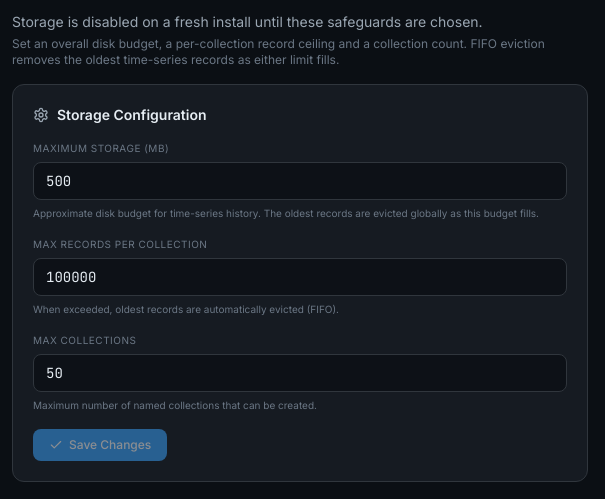
Test case: SettingsPanel › keeps Save disabled until a value changes
This screenshot has width=605, height=499.
Expected: the button "Save Changes" is disabled, [33, 429, 167, 461]
Replace the text in the number field showing "500" below "Maximum Storage (MB)" with "800". click: (300, 181)
box: [33, 162, 567, 200]
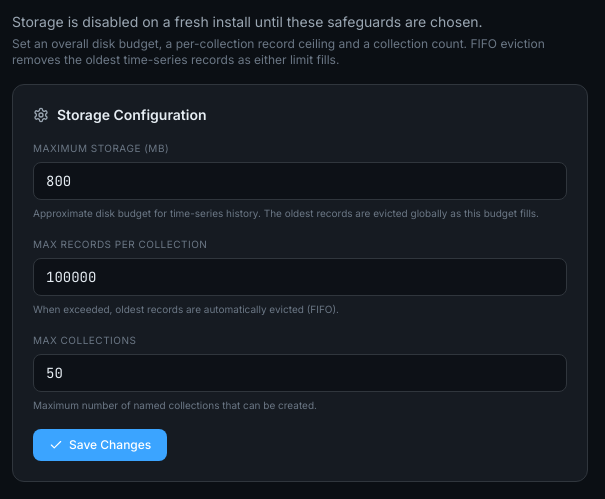
Expected: the button "Save Changes" is enabled, [33, 429, 167, 461]
